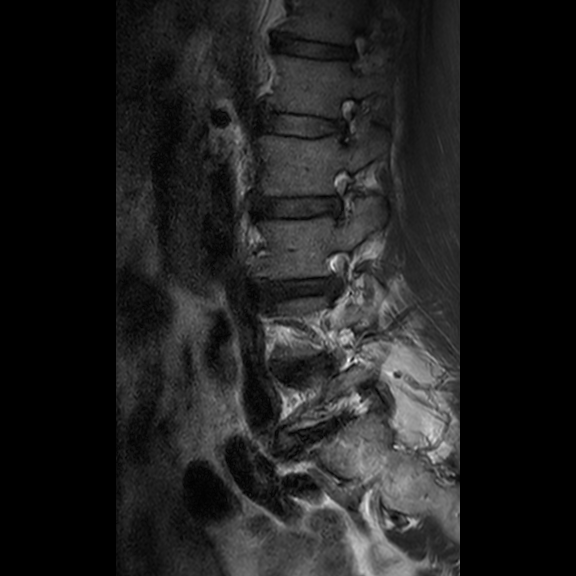RFS0: (322, 164, 368, 227), (327, 95, 371, 156)
